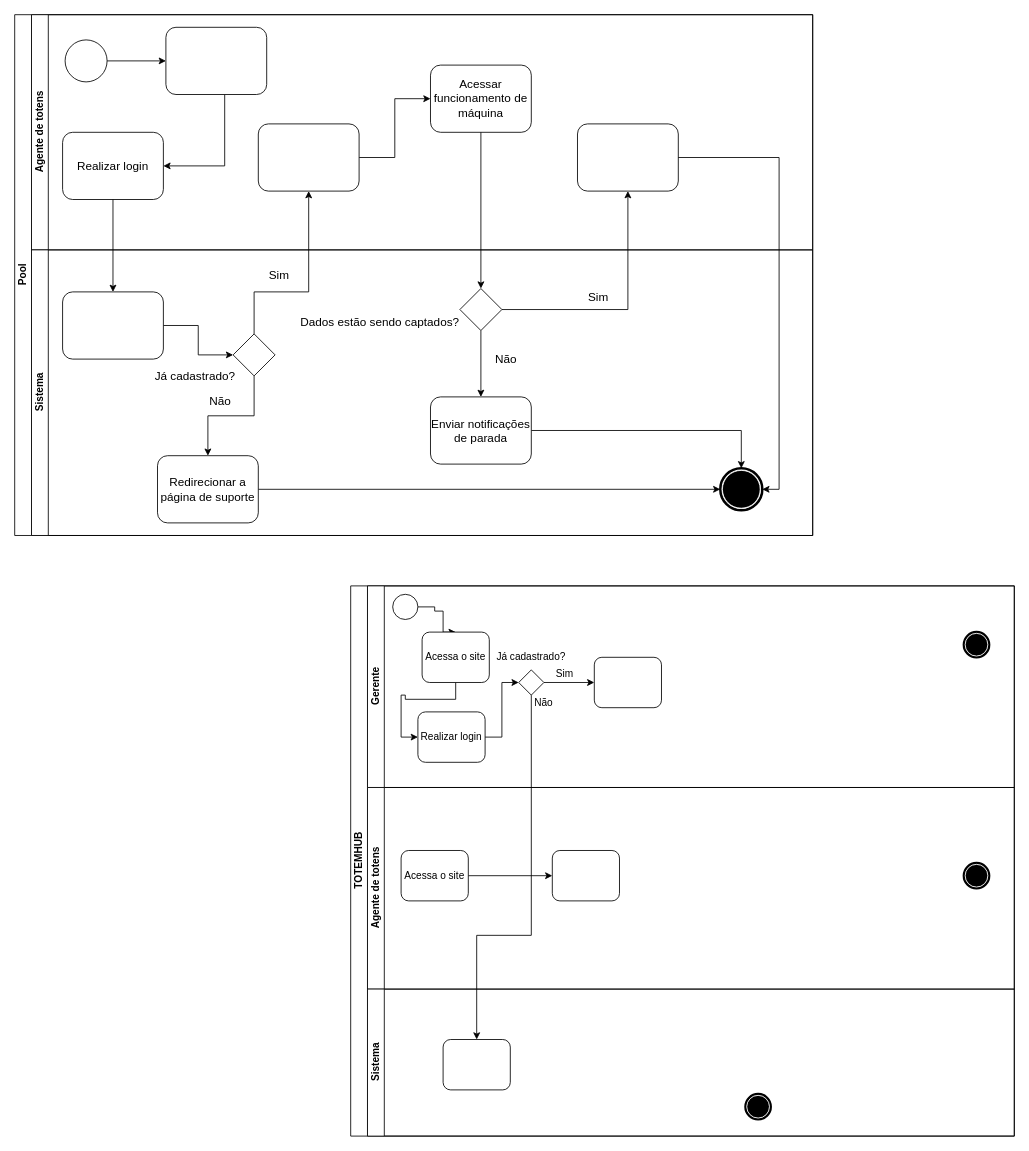
Some shapes in this 1029 by 1151 pixel diagram are drawn without their labels. The shapes that lost their labels are listed below. From the top down, each one's centre as x and y in pixels, then its label:
the point at 216,60: Acessar o site
the point at 308,157: Acessar dashboard
the point at 627,157: Receber alertas e indicadores
the point at 112,325: Verificar cadastro
the point at 627,682: Acessa tela de cadastro / remoção funcionários
the point at 585,875: Realiza login
the point at 476,1064: Redirecionar contato com suporte
